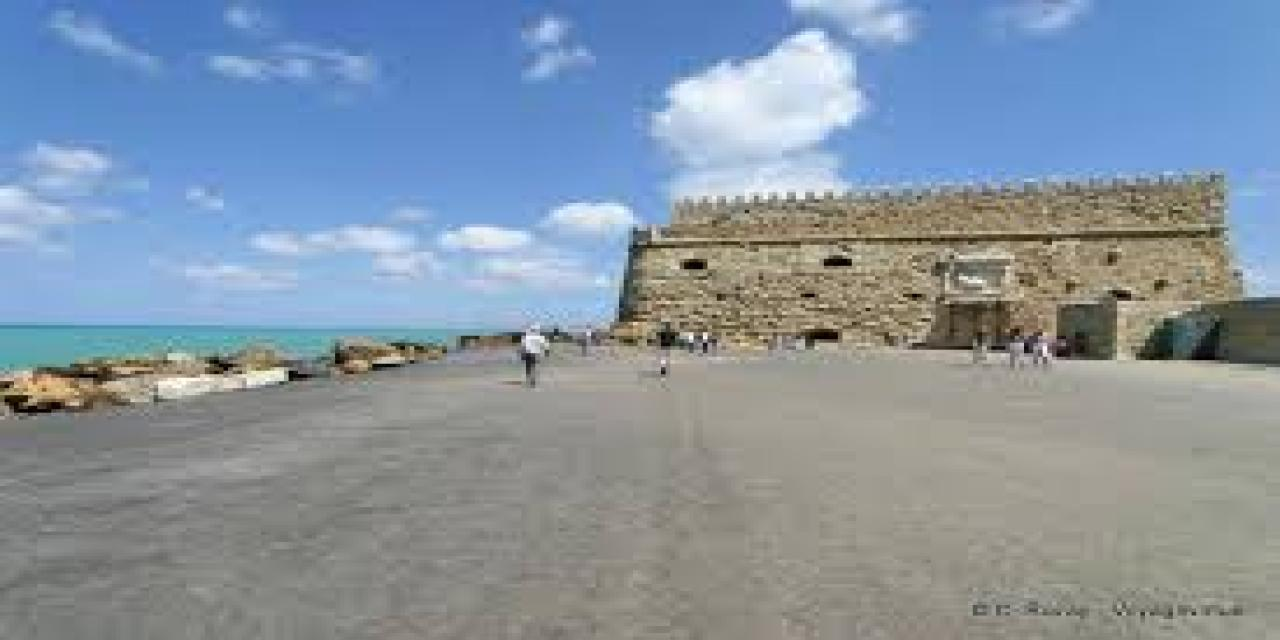Kules: (603, 172, 1249, 359)
